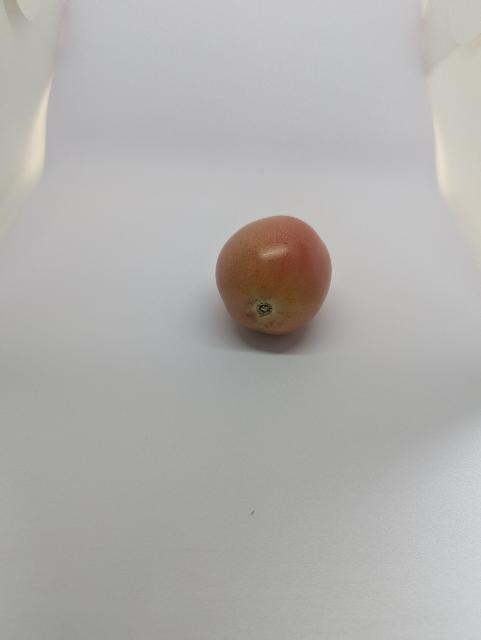turning: (206, 208, 344, 358)
